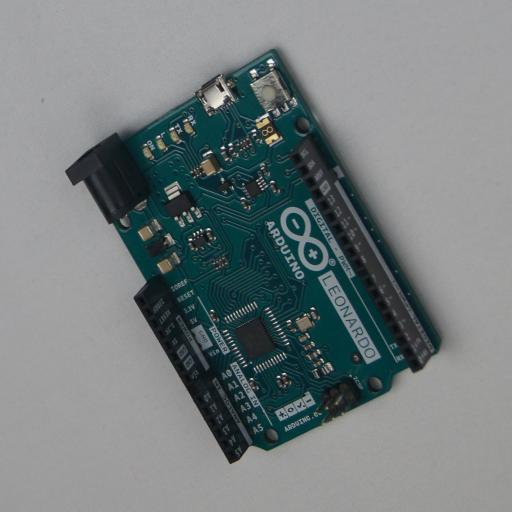Arduino Leonardo: (65, 49, 444, 464)
